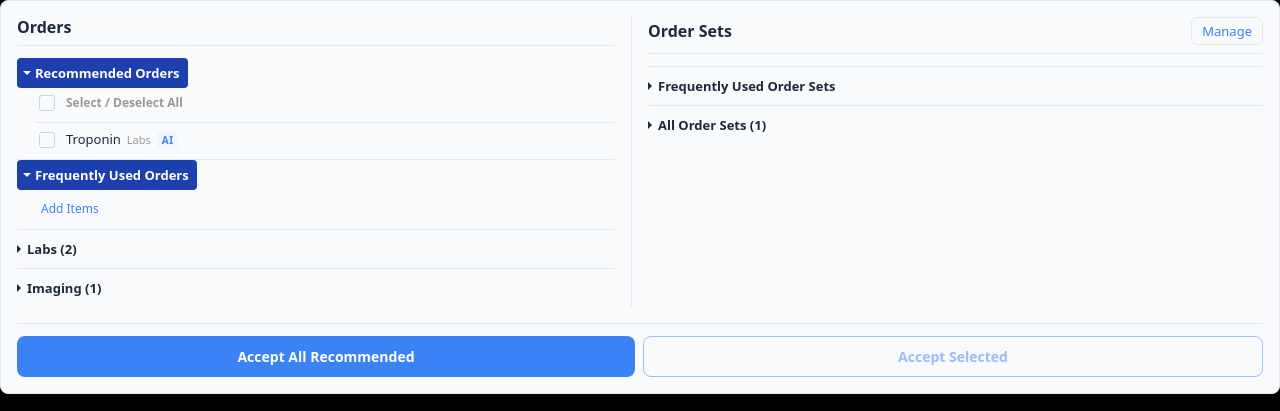
Scenario: OrdersCard › renders All Order Sets section with orderset names when expanded
The image size is (1280, 411).
// Expand the All Order Sets section
Step 1. Click the button "All Order Sets (1)" → [707, 125], box [648,106,766,144]
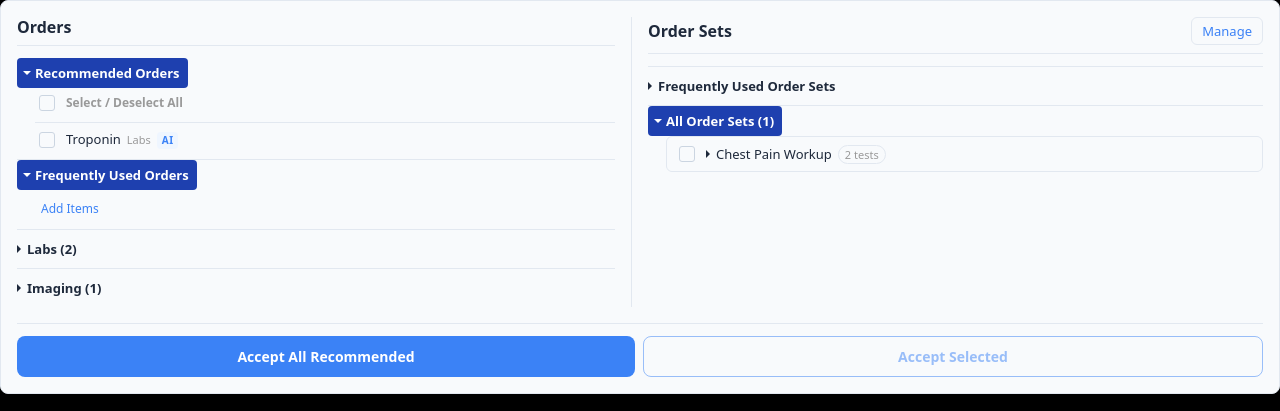
Result: the text "Chest Pain Workup" is shown at [716,145,832,163]
